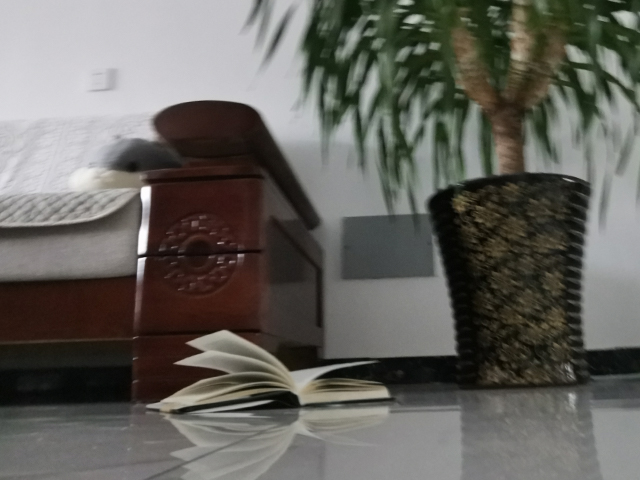book: (141, 328, 397, 415)
sofa: (1, 98, 327, 412)
